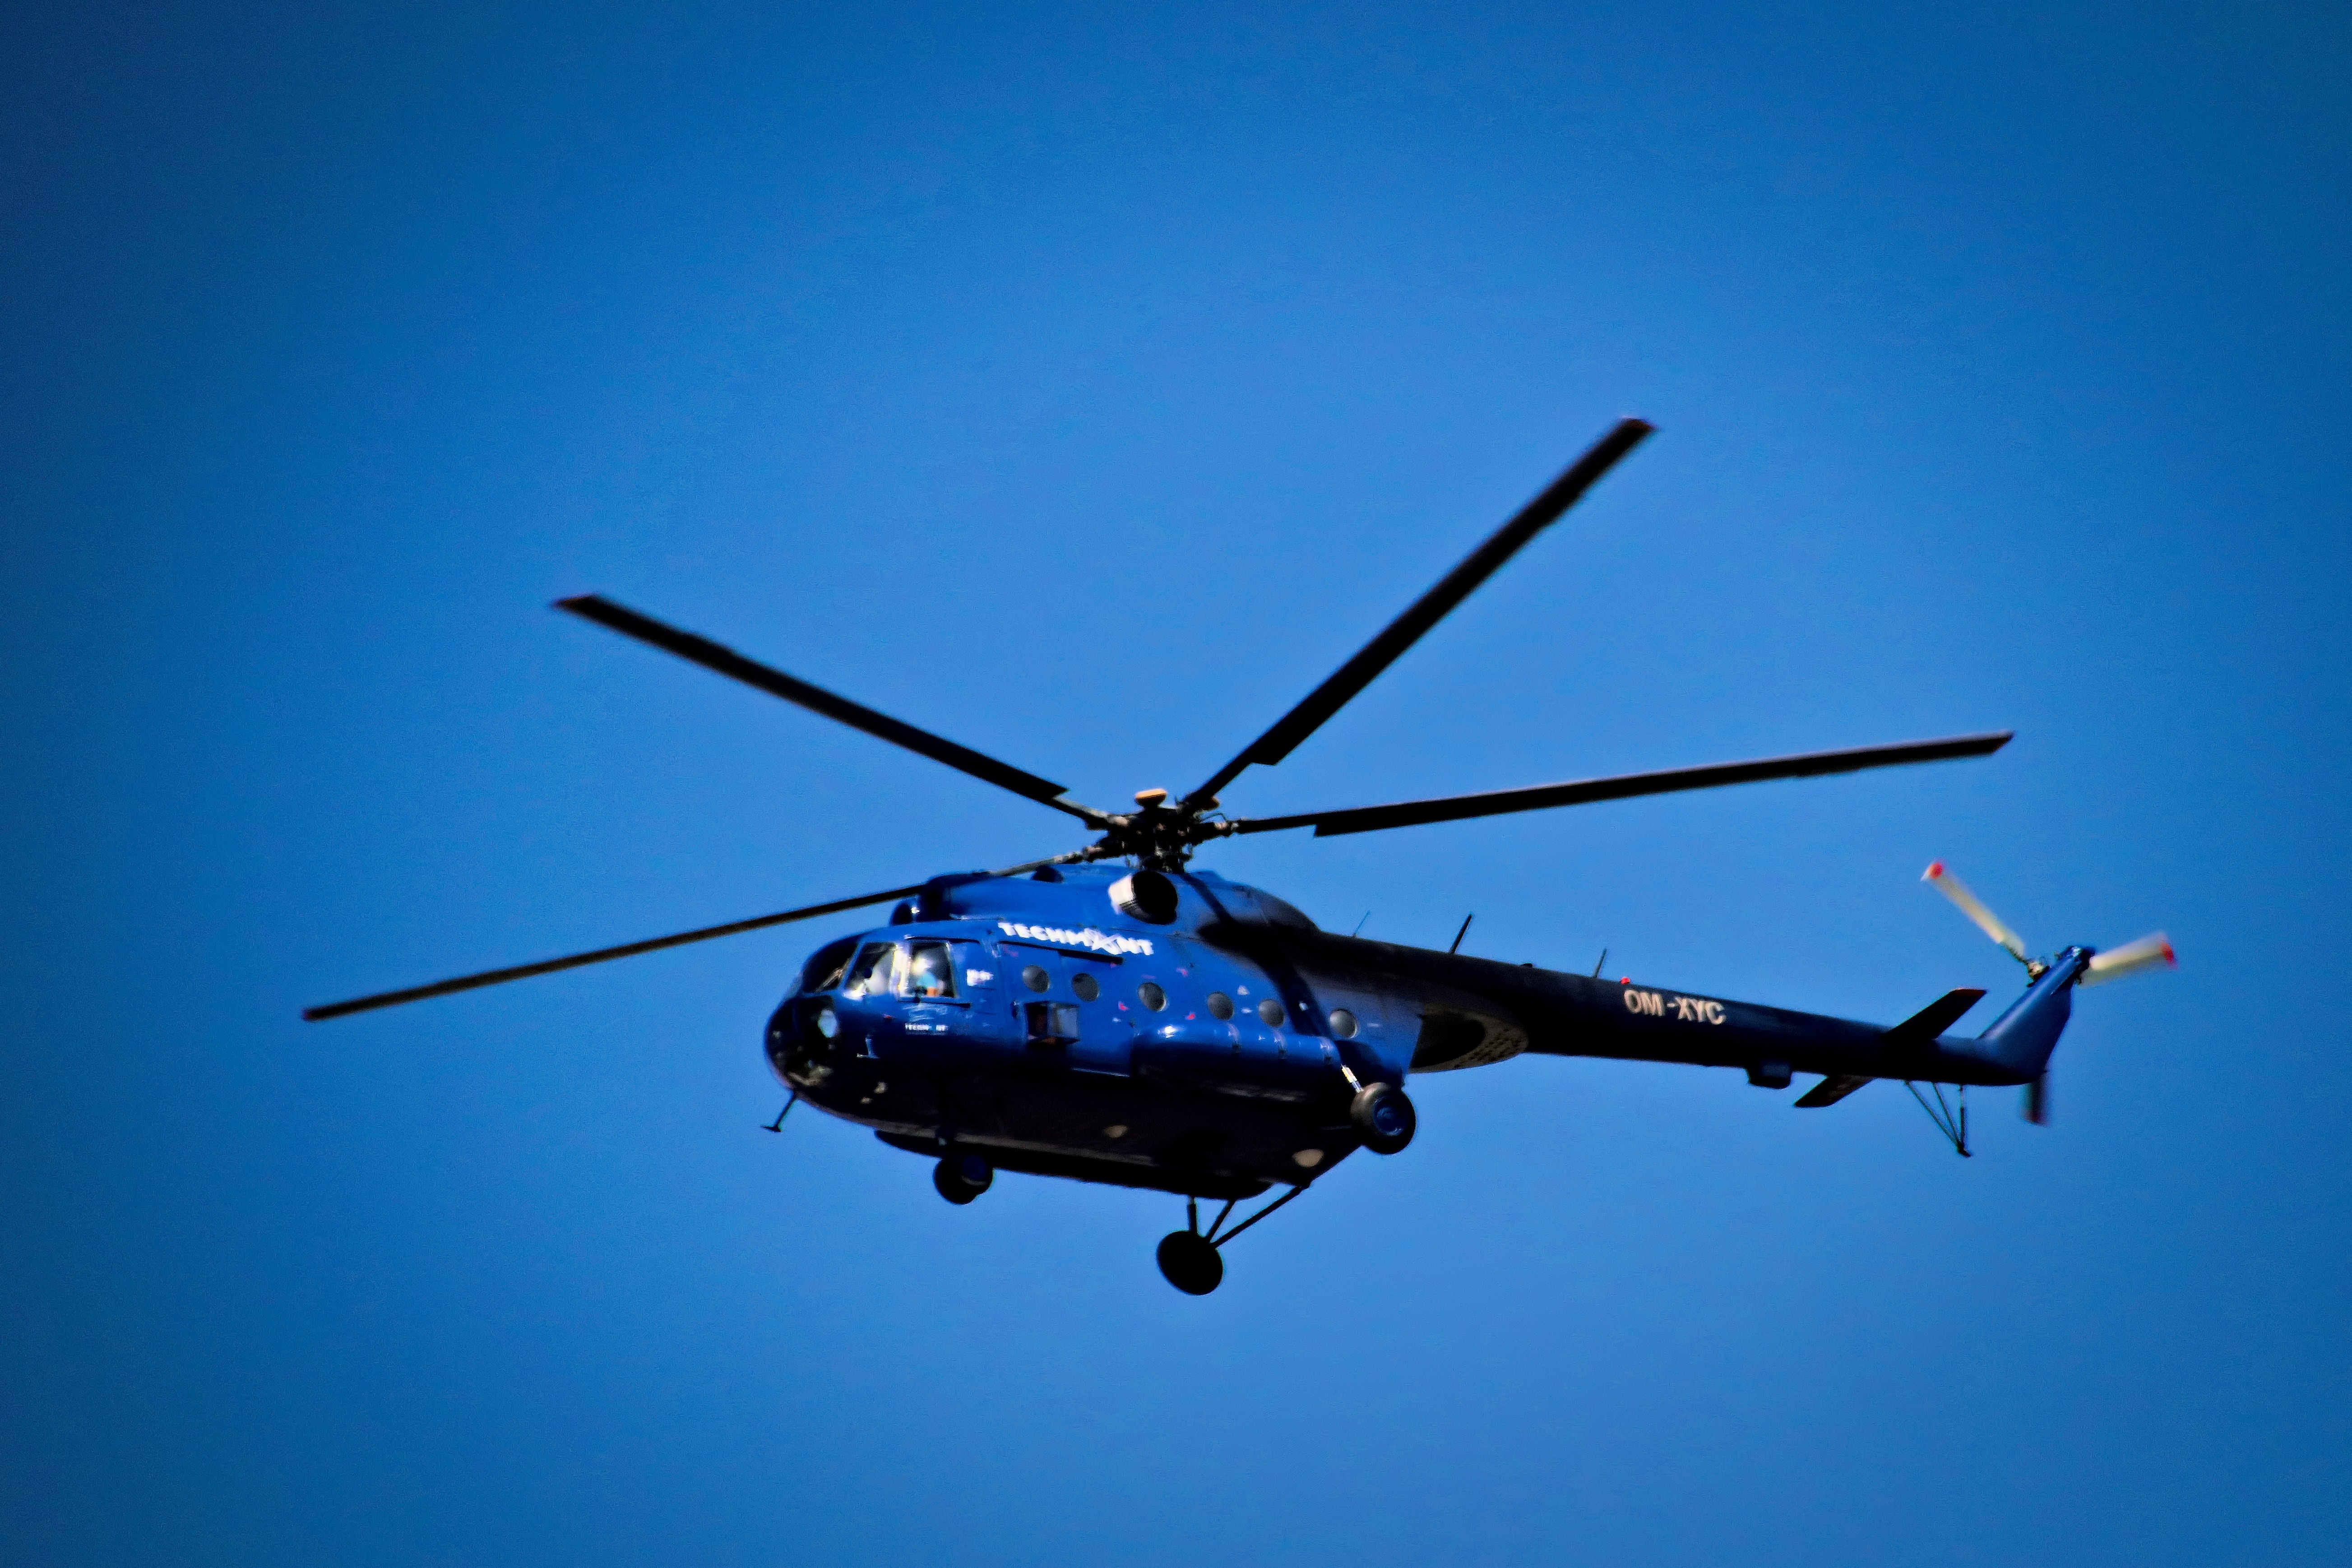helicopter: (203, 194, 2231, 1360)
